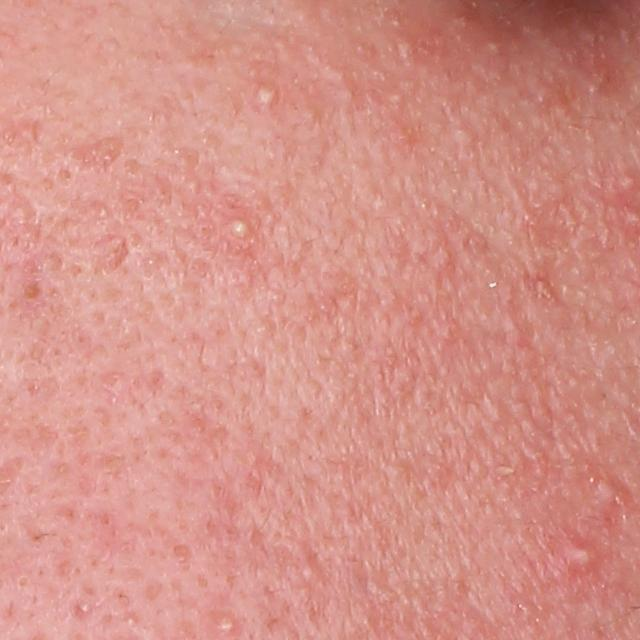atrophic_scar: (72, 136, 127, 171)
comedo: (448, 119, 479, 146), (71, 598, 89, 621), (122, 616, 137, 629)
pustule: (554, 534, 615, 579), (222, 213, 256, 242), (254, 81, 282, 106)
